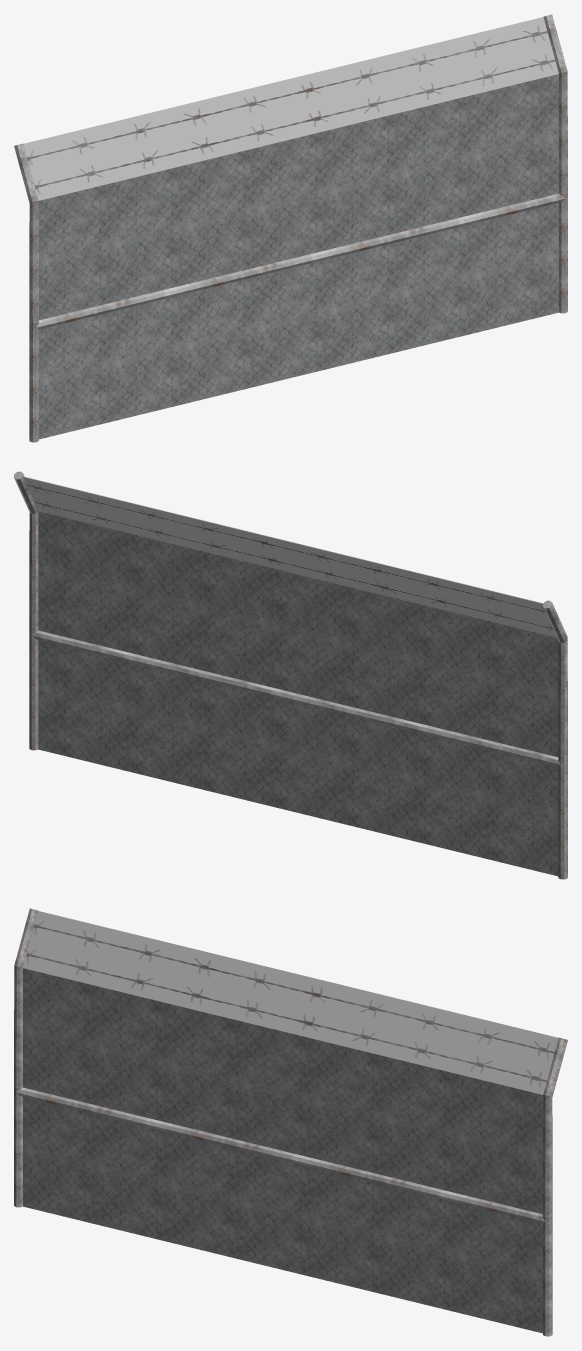
Rendered from fence.fbx.
The picture shows the model from 3 angles, top to bottom: view 1: azimuth 30°, elevation 25°; view 2: azimuth 150°, elevation 25°; view 3: azimuth 330°, elevation 25°; orthographic projection.
Visible parts, largest first — view 1: fence; view 2: fence; view 3: fence.
Part boxes in pixels (box(x1,y1,x2,y2)): fence: box(14, 14, 567, 442); fence: box(14, 471, 567, 879); fence: box(14, 908, 567, 1336).
Size of the model in its own units: 1954 by 996 by 127.
1 material, 1 textured.
